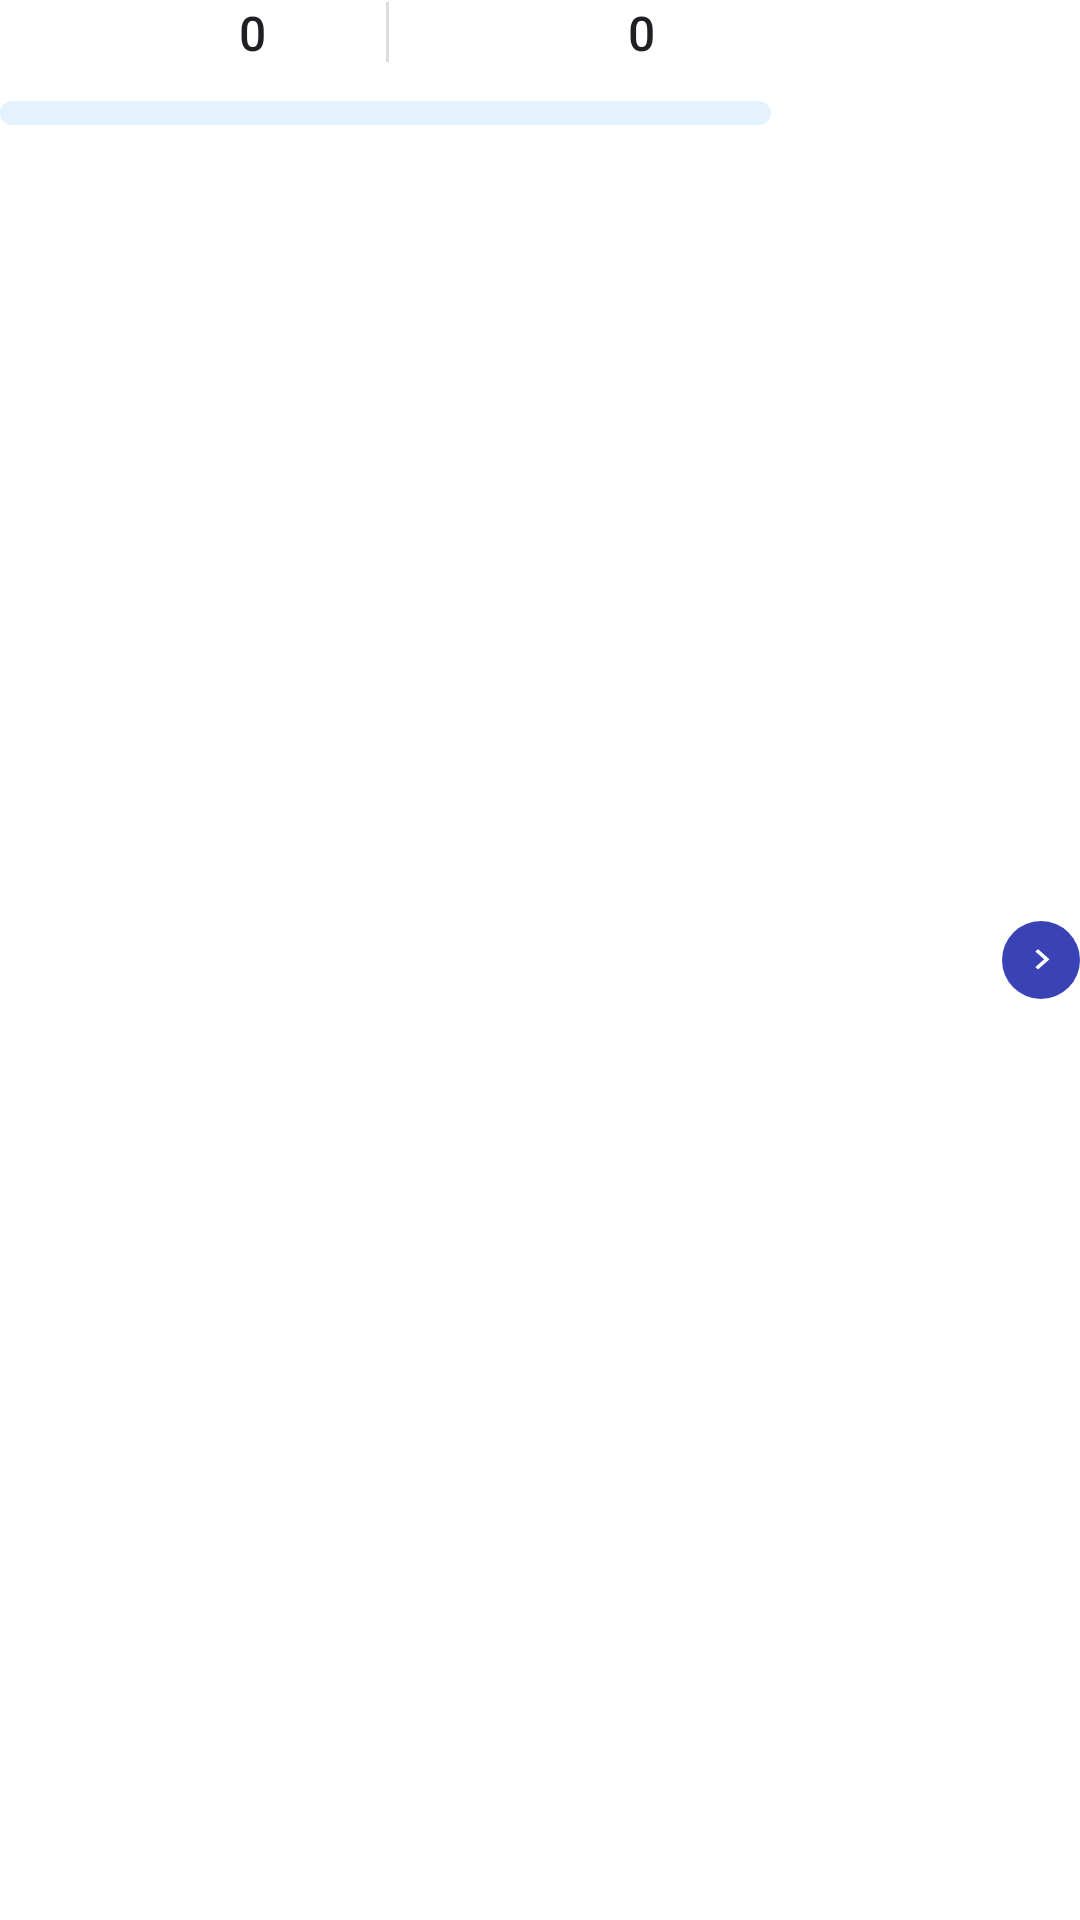

Screen size 1080 × 1920. Icon name, then its center in pixels as (x=x, y=y):
Open App: (x=1041, y=960)
